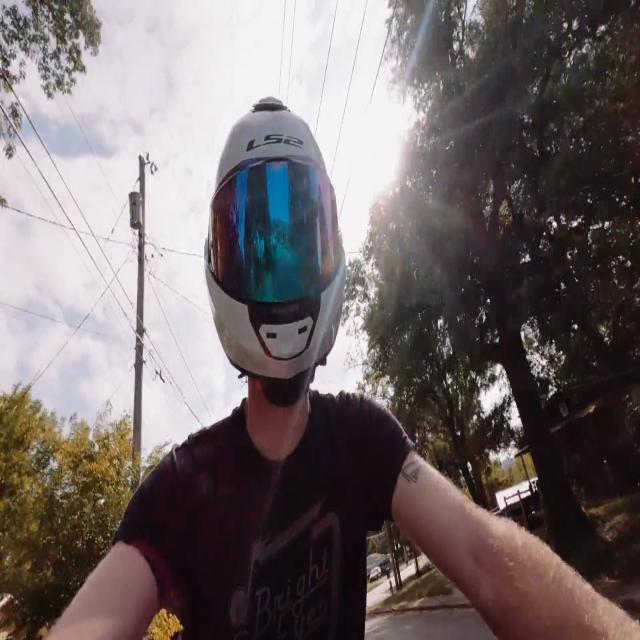Helmet_Wearer: (186, 94, 366, 421)
Person: (42, 82, 637, 640)
